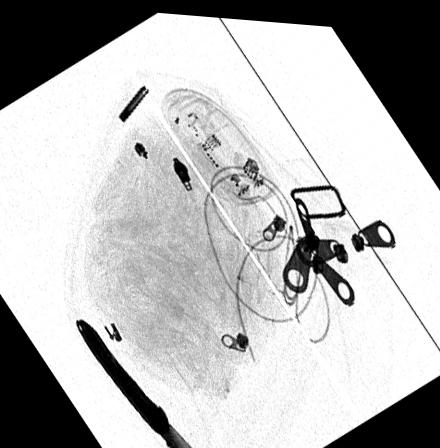Knife: (73, 316, 196, 448)
